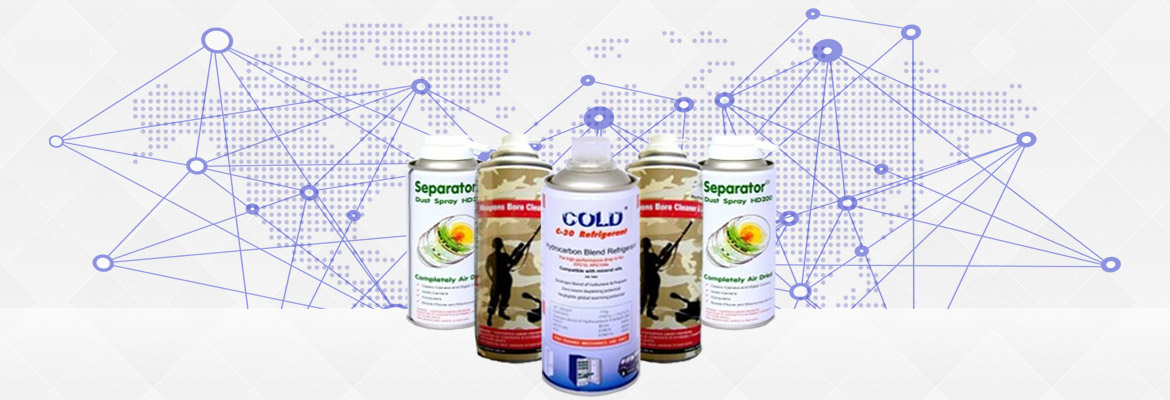Aerosol_cans: (537, 134, 647, 399), (472, 130, 556, 371), (629, 127, 707, 365), (693, 132, 781, 334), (406, 134, 486, 333)
